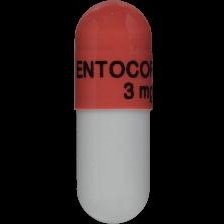54868-4910: (0, 0, 224, 224)
